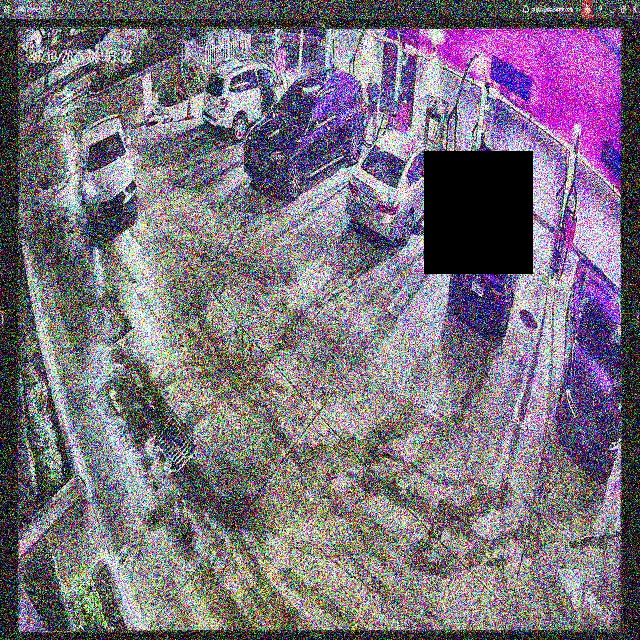Car: (246, 72, 367, 198), (347, 130, 447, 241), (81, 114, 137, 220), (448, 274, 531, 331)
